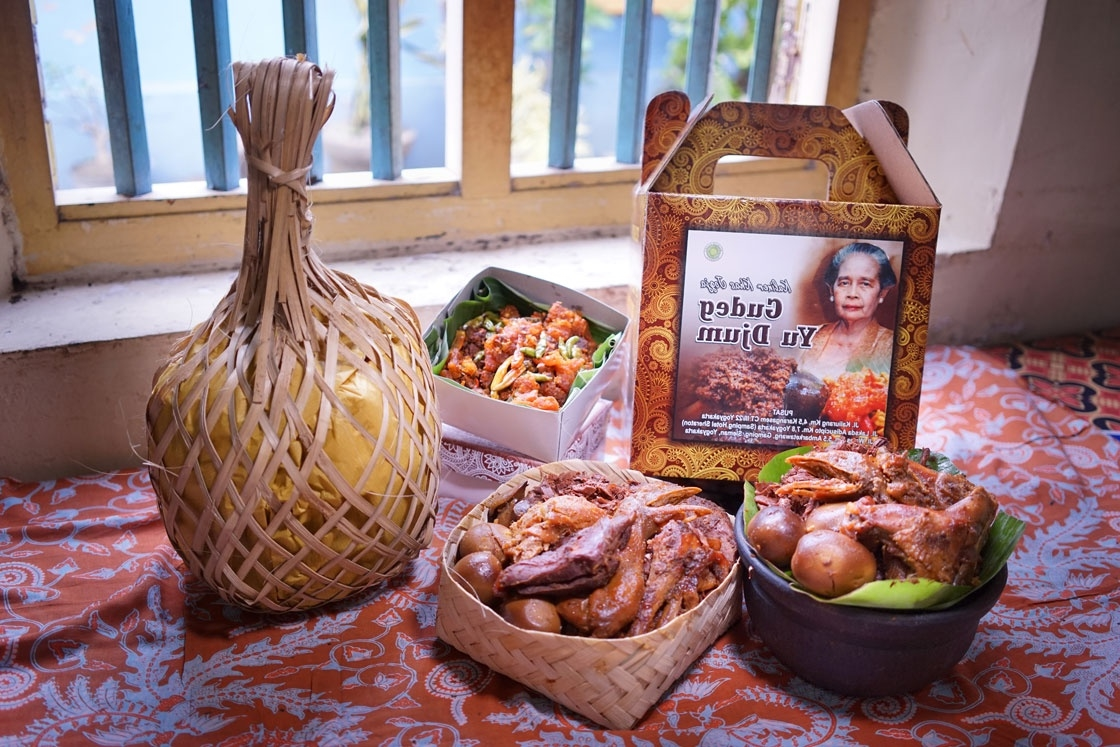gudeg: (748, 448, 995, 597)
